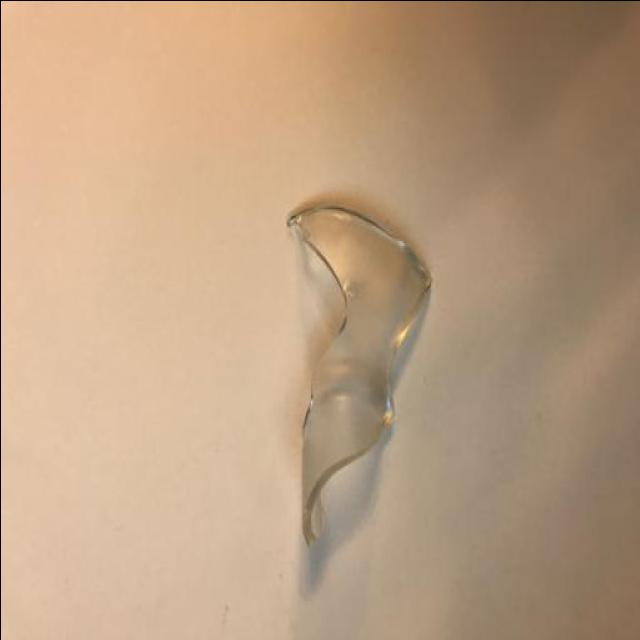glass: (285, 206, 435, 556)
